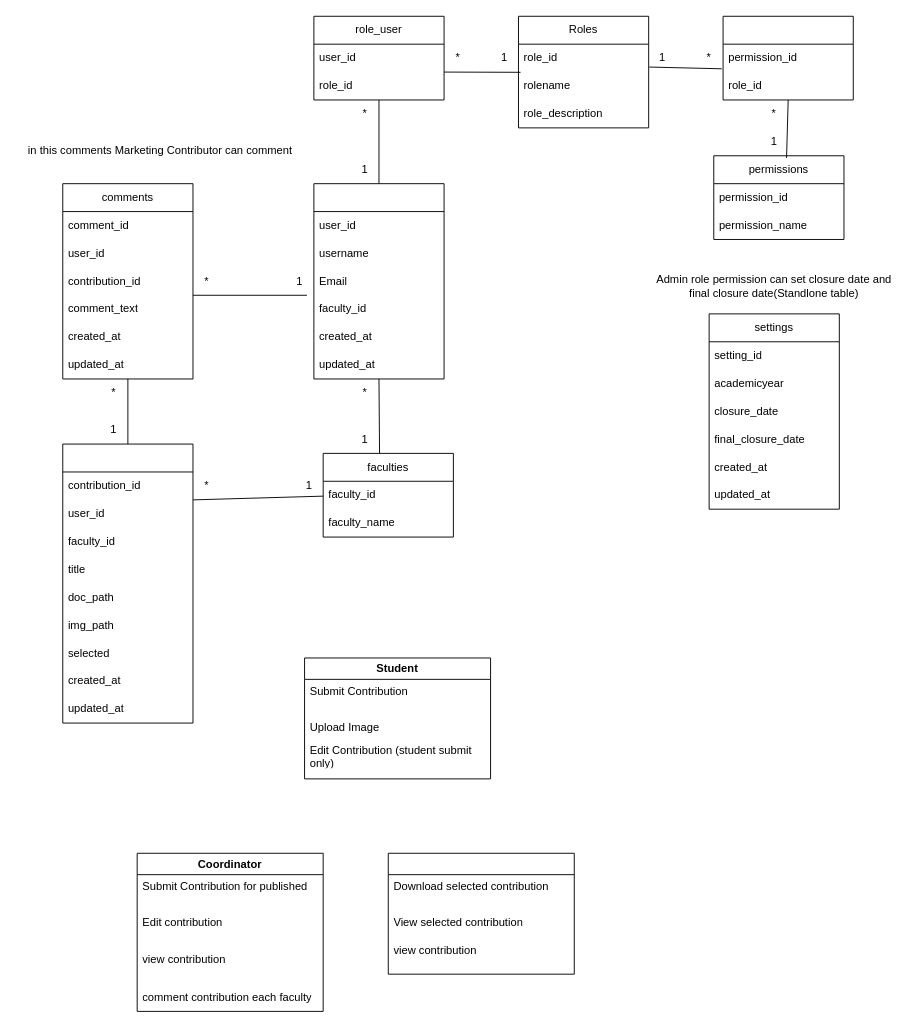
Some shapes in this 915 by 1028 pixel diagram are drawn without their labels. Each missing label, with the box of its shape:
contributions: (62, 443, 193, 723)
Manager: (387, 852, 574, 974)
permission_role: (722, 15, 853, 100)
Users: (313, 183, 444, 379)
